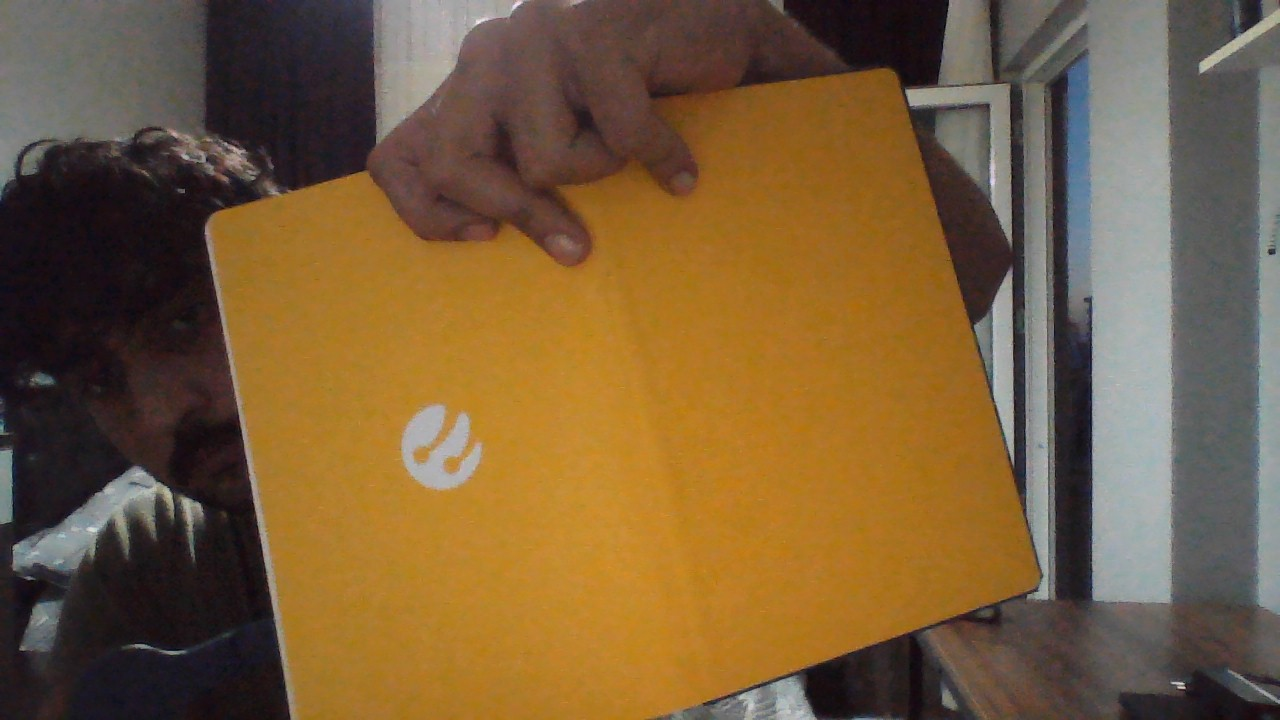turkcell: (392, 396, 487, 495)
